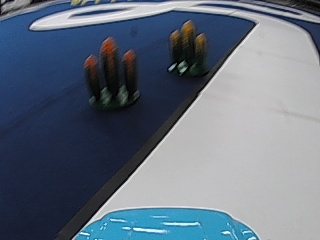corn: (84, 35, 140, 115), (167, 19, 209, 77)
